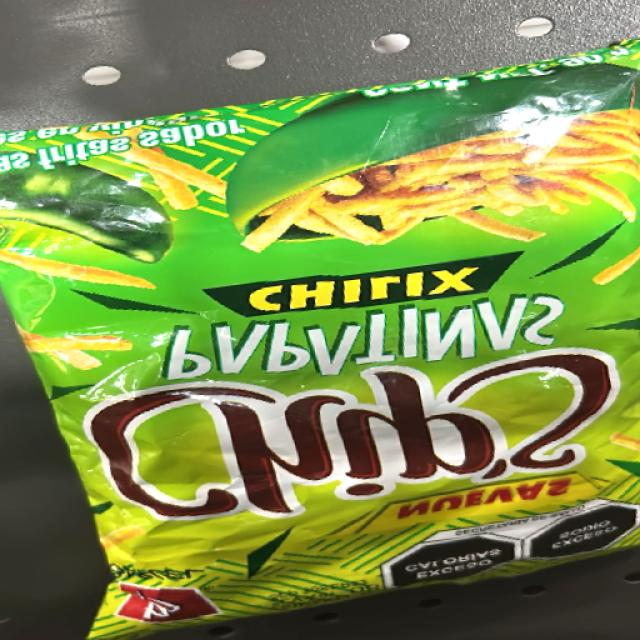chipsPapatinas: (0, 105, 640, 569)
